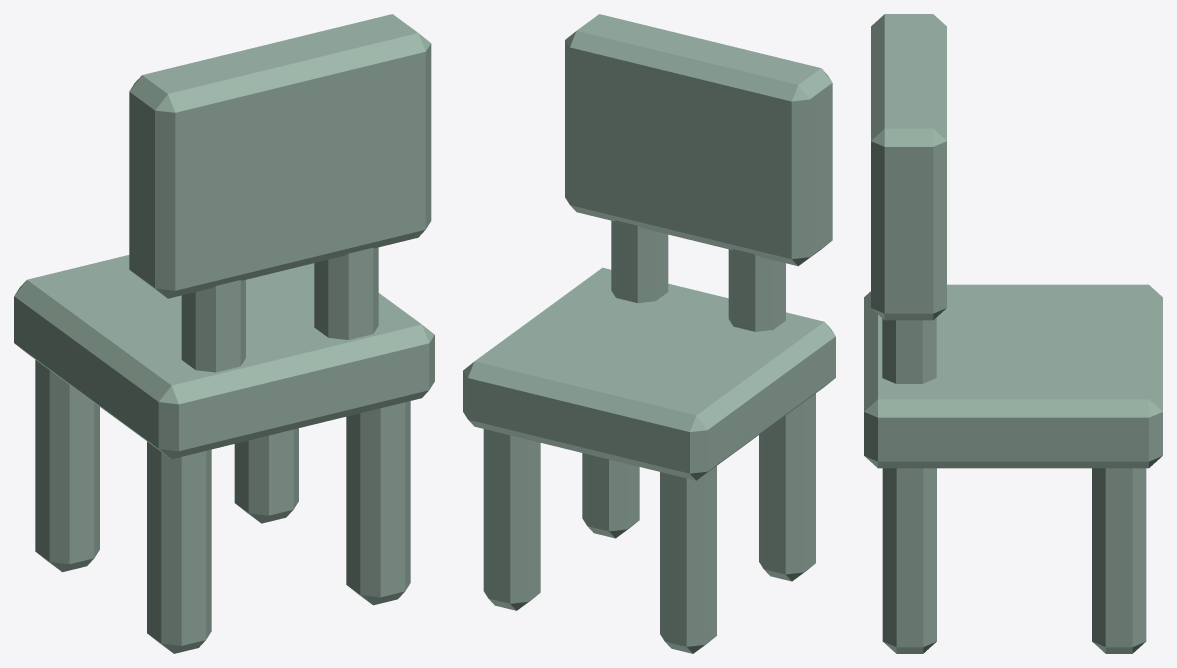
Rendered from chair.fbx.
3 renders of one model, left to right at view 1: azimuth 30°, elevation 25°; view 2: azimuth 150°, elevation 25°; view 3: azimuth 270°, elevation 25°, orthographic. The views are drawn at different scales.
Visible parts, largest first — view 1: chair; view 2: chair; view 3: chair.
Boxes of the visible parts, x1=… form: chair: x1=14, y1=14, x2=434, y2=653; chair: x1=463, y1=14, x2=835, y2=653; chair: x1=864, y1=14, x2=1162, y2=653.
Size of the model in its own units: 323 by 634 by 323.
